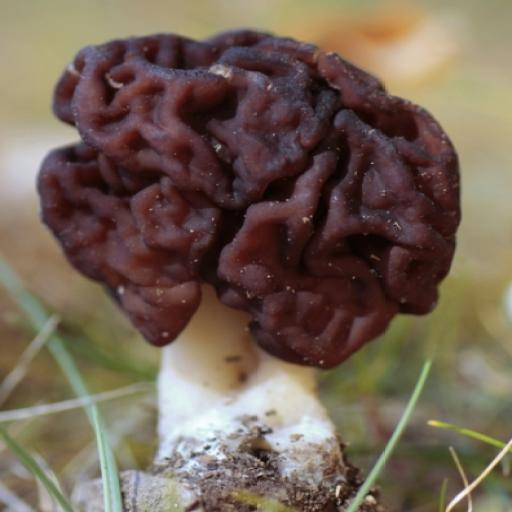mushroom: (32, 25, 465, 512)
